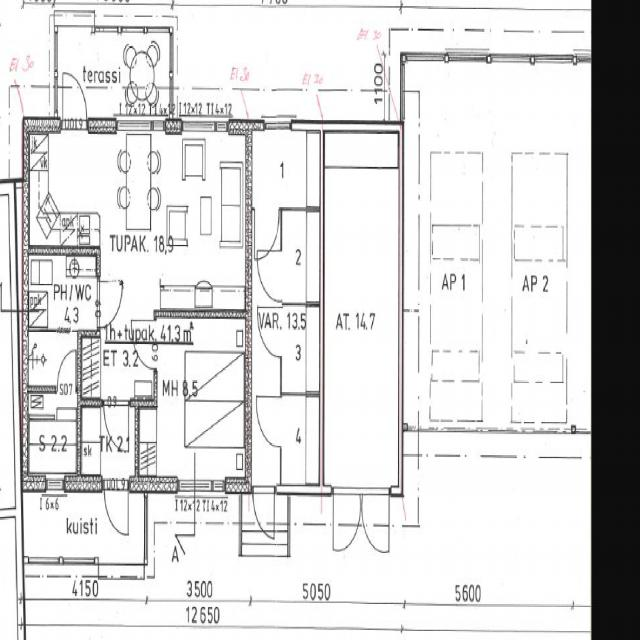door: (104, 479, 128, 537), (63, 72, 87, 130), (104, 401, 128, 455), (130, 320, 156, 369), (97, 281, 122, 327), (59, 350, 76, 392)
